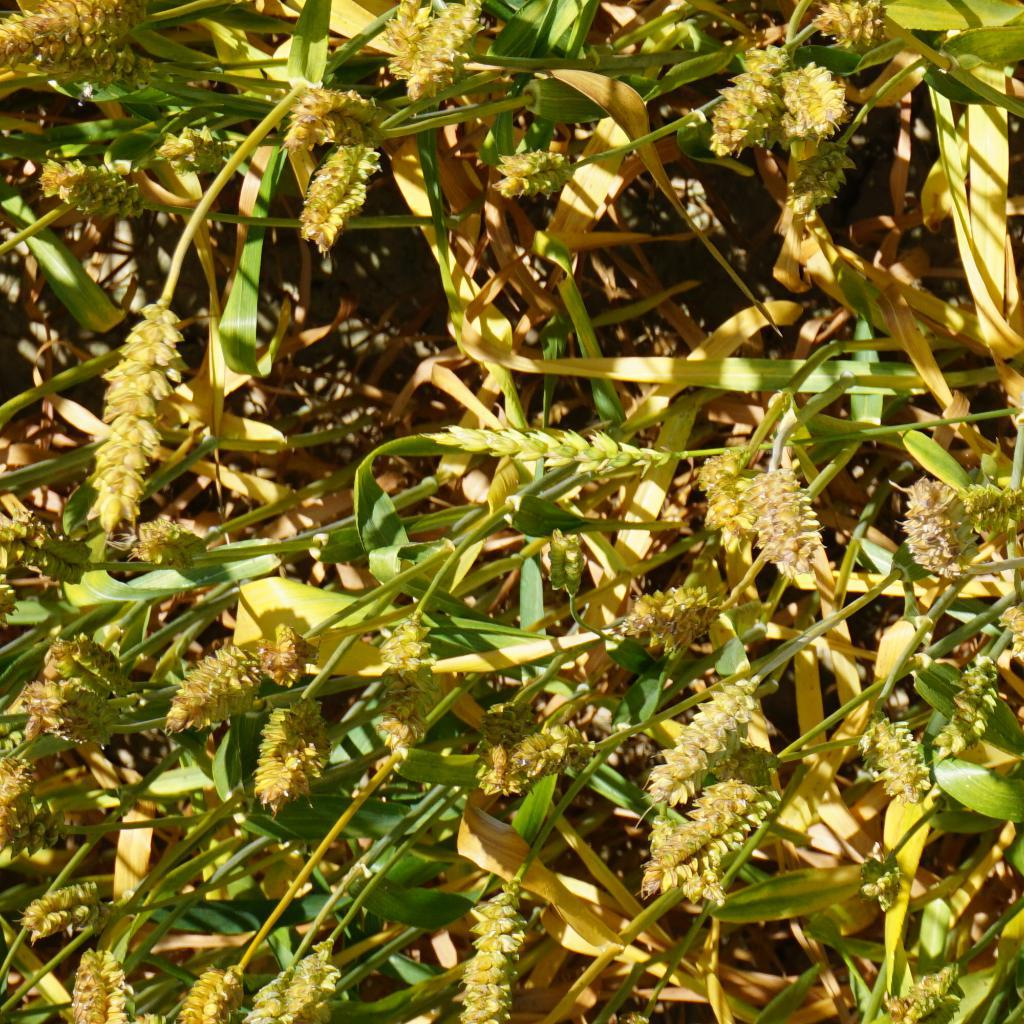0-0: (417, 411, 677, 492), (87, 302, 176, 508), (644, 782, 790, 894), (0, 17, 147, 96), (459, 881, 537, 1024), (294, 138, 380, 264), (16, 674, 144, 751), (654, 686, 757, 777), (246, 706, 334, 808), (748, 460, 825, 576), (408, 0, 488, 109), (709, 46, 781, 164), (32, 151, 158, 218), (165, 641, 262, 727), (373, 614, 436, 742), (473, 733, 594, 796), (6, 0, 159, 49), (284, 78, 386, 151), (897, 474, 969, 575), (862, 716, 937, 808), (781, 137, 862, 222), (623, 585, 722, 654), (0, 767, 73, 858), (776, 56, 858, 134), (63, 951, 149, 1024), (12, 515, 102, 584), (14, 876, 110, 939), (382, 0, 449, 88), (691, 441, 750, 539), (840, 846, 924, 910), (482, 145, 576, 202), (37, 635, 121, 697), (147, 123, 238, 180), (529, 532, 590, 615), (817, 0, 902, 58), (276, 953, 349, 1019), (183, 960, 260, 1022), (944, 670, 993, 758), (134, 512, 206, 561), (260, 614, 316, 677), (886, 969, 954, 1017), (960, 480, 1013, 531), (481, 695, 540, 740), (998, 605, 1024, 673)
